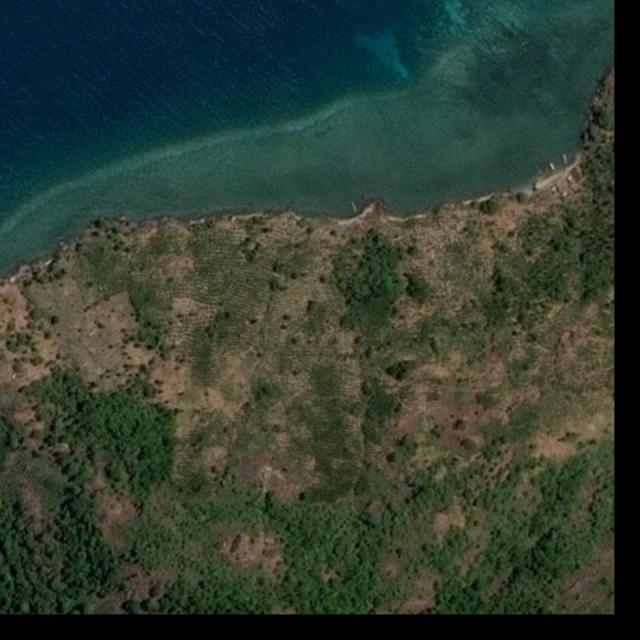ship: (350, 202, 358, 213), (550, 162, 558, 172), (562, 154, 566, 166)
